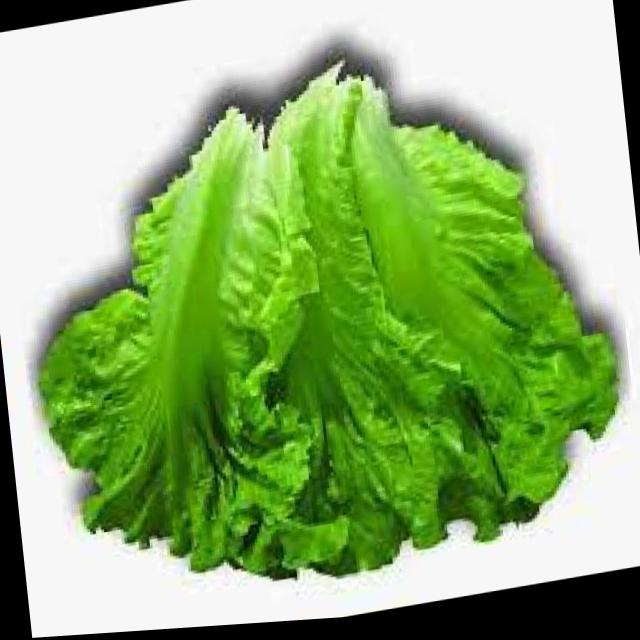Mature: (37, 55, 621, 580)
